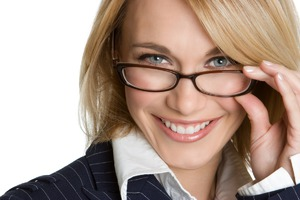glasses: (110, 52, 262, 105)
